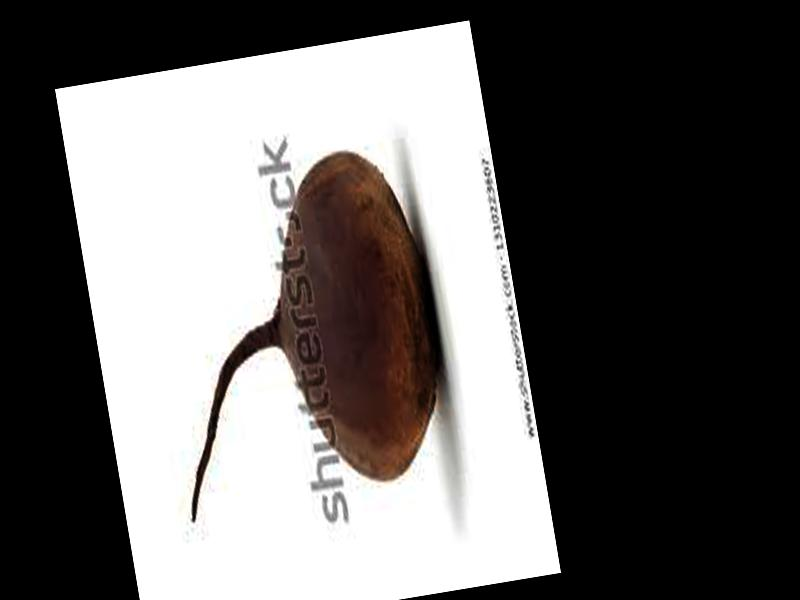Beet: (135, 137, 462, 521)
